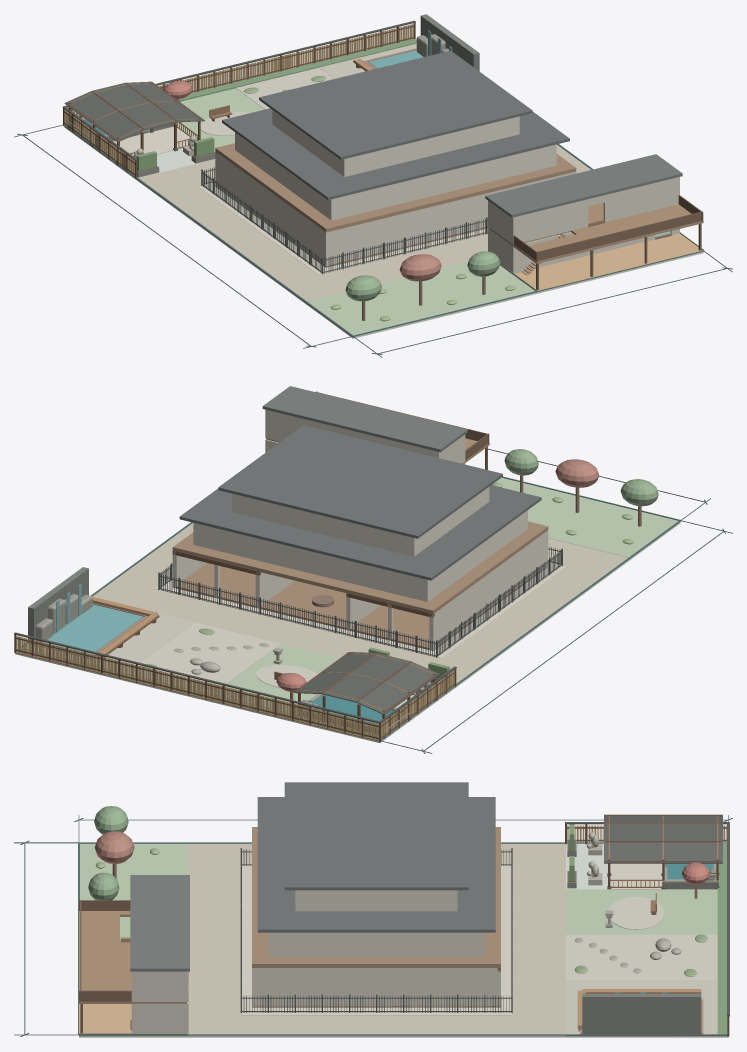
File: zen corner.glb
3 views of the same model, one above another, from view 1: azimuth 30°, elevation 25°; view 2: azimuth 150°, elevation 25°; view 3: azimuth 270°, elevation 25° (orthographic). The views are drawn at different scales.
Visible parts, largest first — view 1: SHRINE | upper roof, SHRINE | second tier roof, ZONE | South lawn | 42 x 10 m, SHRINE | second floor mass, SHRINE | lower hall wall | south, SHOP | roof, SHRINE | second floor deck, SHRINE | third floor mass, Path | west courtyard edge | 5 m wide, REAR PLAN | covered working courtyard | 20 x 5 m, Path | south cross-site | 5 m wide, SHRINE | lower hall wall | east (+29 smaller); view 2: SHRINE | upper roof, SHRINE | second tier roof, SHRINE | second floor mass, Path | north cross-site | 5 m wide, SHRINE | base platform | 30 x 23 m, ZONE | South lawn | 42 x 10 m, SHOP | roof, SHRINE | second floor deck, SHRINE | third floor mass, Path | west courtyard edge | 5 m wide, DRY GARDEN | gravel field, SHRINE | lower hall wall | east (+26 smaller); view 3: SHRINE | upper roof, SHRINE | second tier roof, Path | north cross-site | 5 m wide, Path | south cross-site | 5 m wide, DRY GARDEN | gravel field, SHRINE | lower hall wall | west, Path | east courtyard edge | 5 m wide, SHOP | roof, SHRINE | second floor mass, ZONE | North garden grass, WATERFALL | full height wall, SHRINE | second floor deck (+34 smaller).
Part boxes in pixels (x1,y1,x2,y2): SHRINE | upper roof: (259,50,532,159); SHRINE | second tier roof: (222,108,569,199); ZONE | South lawn | 42 x 10 m: (307,251,703,337); SHRINE | second floor mass: (235,132,556,220); SHRINE | lower hall wall | south: (324,171,576,266); SHOP | roof: (485,154,682,217); SHRINE | second floor deck: (215,143,576,232); SHRINE | third floor mass: (272,110,519,176); Path | west courtyard edge | 5 m wide: (163,187,317,283); REAR PLAN | covered working courtyard | 20 x 5 m: (514,233,702,290); Path | south cross-site | 5 m wide: (283,234,487,300); SHRINE | lower hall wall | east: (254,180,328,266); SHRINE | upper roof: (218,425,502,538); SHRINE | second tier roof: (179,485,541,580); SHRINE | second floor mass: (193,510,527,601); Path | north cross-site | 5 m wide: (92,579,477,683); SHRINE | base platform | 30 x 23 m: (173,563,547,650); ZONE | South lawn | 42 x 10 m: (495,477,678,557); SHOP | roof: (262,386,467,452); SHRINE | second floor deck: (172,521,548,614); SHRINE | third floor mass: (232,487,489,556); Path | west courtyard edge | 5 m wide: (441,567,602,667); DRY GARDEN | gravel field: (127,622,281,693); SHRINE | lower hall wall | east: (473,531,546,617); SHRINE | upper roof: (284,782,468,890); SHRINE | second tier roof: (257,797,495,932); Path | north cross-site | 5 m wide: (512,843,565,1036); Path | south cross-site | 5 m wide: (187,843,241,1036); DRY GARDEN | gravel field: (566,934,717,980); SHRINE | lower hall wall | west: (252,968,414,1007); Path | east courtyard edge | 5 m wide: (241,1015,511,1036); SHOP | roof: (130,875,189,971); SHRINE | second floor mass: (268,932,484,957); ZONE | North garden grass: (566,889,717,934); WATERFALL | full height wall: (582,993,701,1036); SHRINE | second floor deck: (252,827,500,967).
Size of the model in its own units: 48.43 by 10.89 by 66.43.
